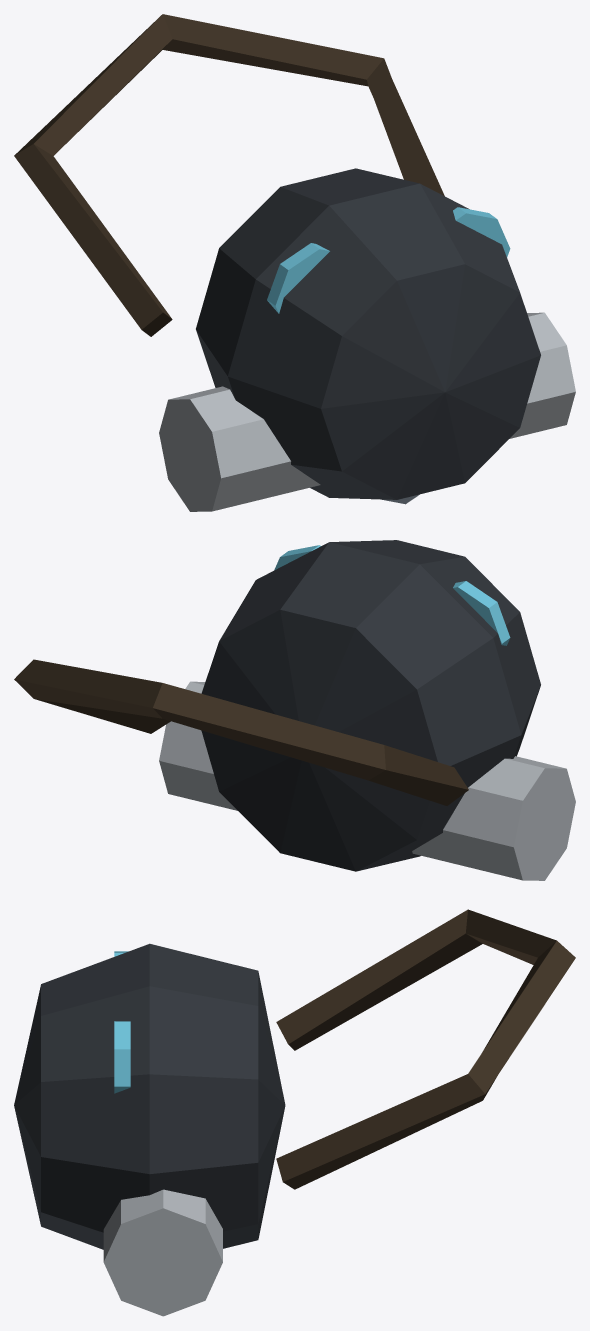
The model's file is respirator.glb.
The picture shows the model from 3 angles, top to bottom: view 1: azimuth 30°, elevation 25°; view 2: azimuth 150°, elevation 25°; view 3: azimuth 270°, elevation 25°; orthographic projection. The views are drawn at different scales.
Visible parts, largest first — view 1: m; view 2: m; view 3: m.
Boxes of the visible parts, x1,y1,x2,y2 form: m: [14, 14, 575, 511]; m: [14, 540, 575, 880]; m: [14, 909, 575, 1316].
Bounding box in the file's own units: 0.14 × 0.1143 × 0.1907.
